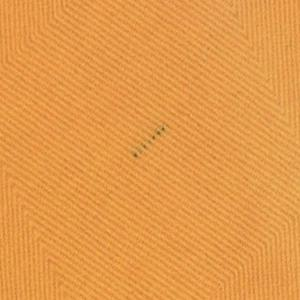stain: (130, 123, 169, 164)
